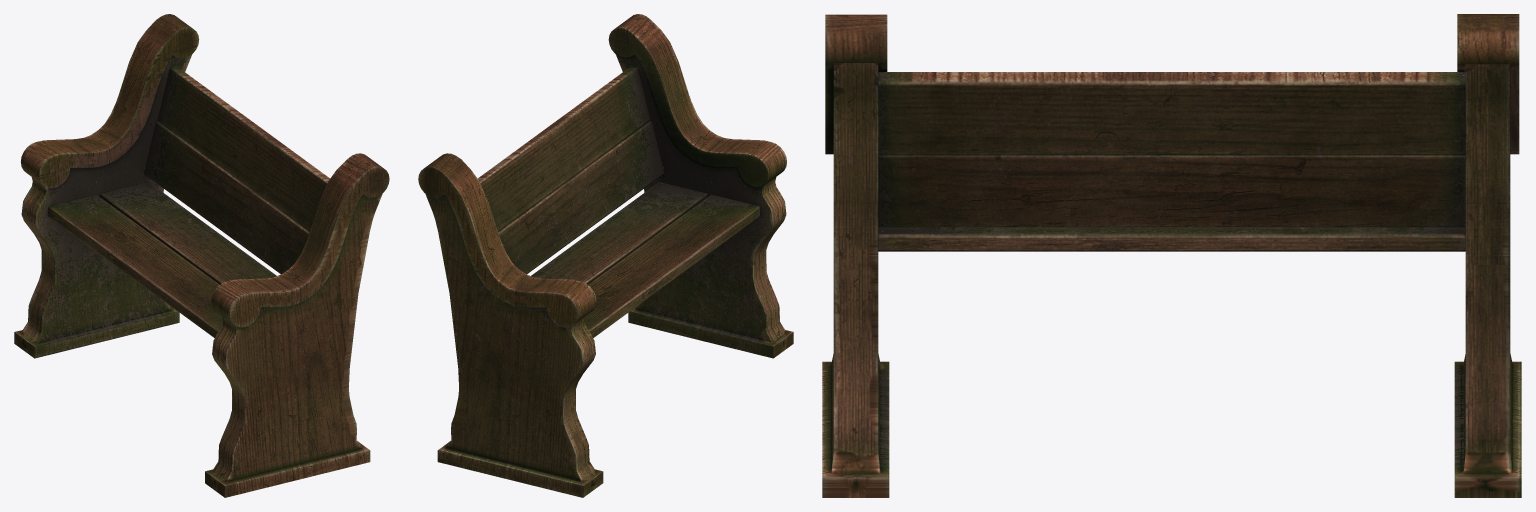
The model's file is bench1.fbx.
3 views of the same model, side by side, from view 1: azimuth 30°, elevation 25°; view 2: azimuth 150°, elevation 25°; view 3: azimuth 270°, elevation 25° (orthographic). The views are drawn at different scales.
Visible parts, largest first — view 1: bench; view 2: bench; view 3: bench.
Part boxes in pixels (bbox=[...]): bench: bbox=[14, 14, 389, 497]; bench: bbox=[418, 14, 793, 497]; bench: bbox=[822, 14, 1521, 497].
Bounding box in the file's own units: 75.51 × 128 × 167.
